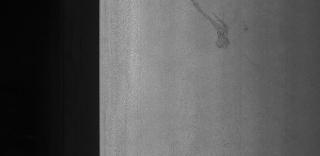water spot: (182, 0, 242, 52)
